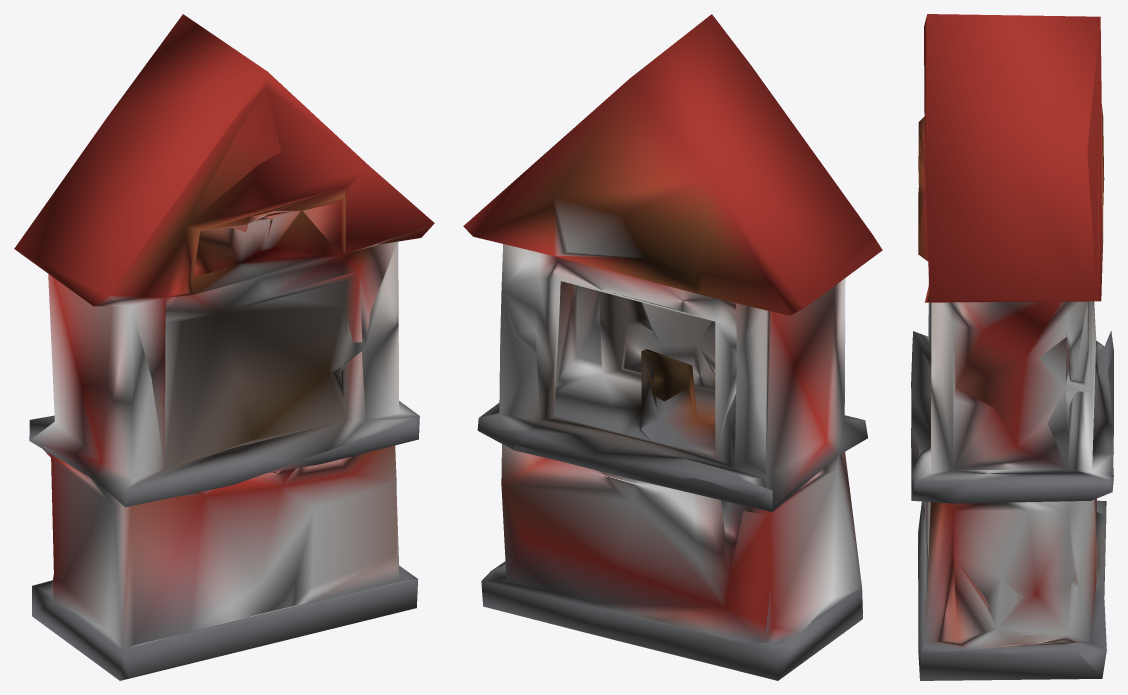
The model's file is gen3d-ticket-booth-lod1.glb.
3 views of the same model, side by side, from view 1: azimuth 30°, elevation 25°; view 2: azimuth 150°, elevation 25°; view 3: azimuth 270°, elevation 25° (orthographic). The views are drawn at different scales.
Visible parts, largest first — view 1: part_0; view 2: part_0; view 3: part_0.
Part boxes in pixels (x1=…): part_0: x1=14, y1=14, x2=434, y2=680; part_0: x1=463, y1=14, x2=882, y2=680; part_0: x1=911, y1=14, x2=1113, y2=680.
Size of the model in its own units: 0.6246 by 0.9981 by 0.3084.
